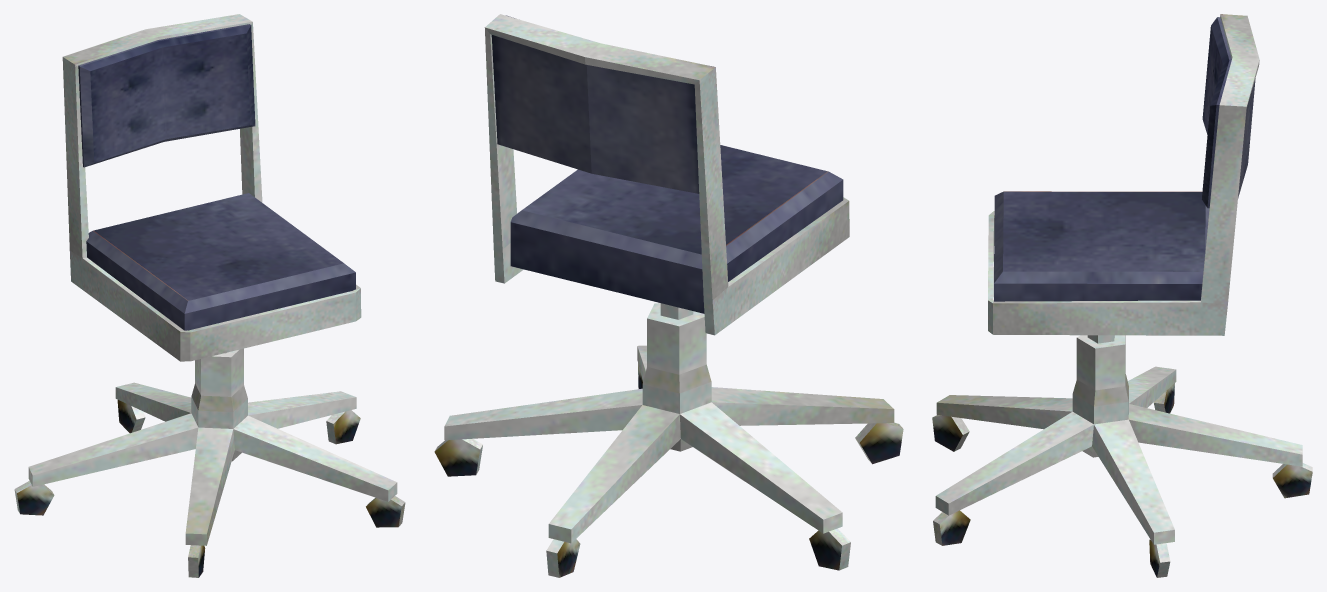
Rendered from office_chair_blue.fbx.
The picture shows the model from 3 angles, left to right: view 1: azimuth 30°, elevation 25°; view 2: azimuth 150°, elevation 25°; view 3: azimuth 270°, elevation 25°; orthographic projection. The views are drawn at different scales.
Parts seen in each view (by area): view 1: office_chair_blue; view 2: office_chair_blue; view 3: office_chair_blue.
Part boxes in pixels (left/top/right/bottom): office_chair_blue: left=14, top=14, right=405, bottom=577; office_chair_blue: left=434, top=14, right=903, bottom=577; office_chair_blue: left=932, top=14, right=1312, bottom=577.
Size of the model in its own units: 94 by 110 by 86.06.
